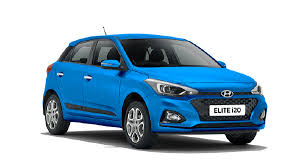car: (33, 19, 275, 155)
